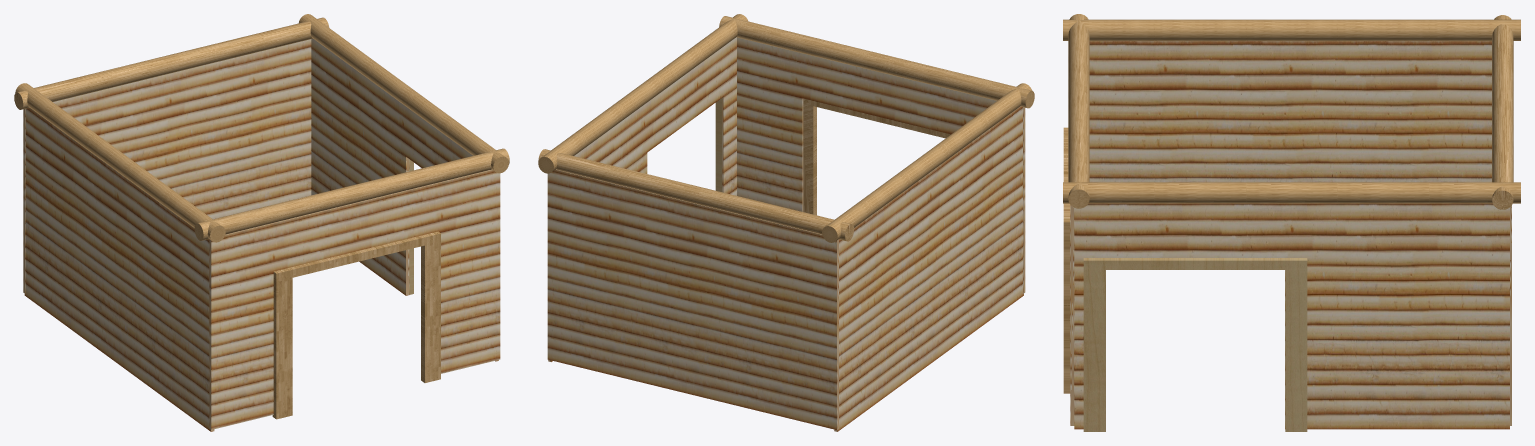
File: estructuraCasa.glb
The picture shows the model from 3 angles, left to right: view 1: azimuth 30°, elevation 25°; view 2: azimuth 150°, elevation 25°; view 3: azimuth 270°, elevation 25°; orthographic projection. The views are drawn at different scales.
Parts seen in each view (by area): view 1: Wall003, Box015, Box016, Wall001, kemer, Cylinder014, Cylinder013, Cylinder011, Cylinder012; view 2: Box016, Wall003, Box015, Wall001, Cylinder013, Cylinder014, Cylinder011, Cylinder012, kemer, kemer001; view 3: Wall001, Wall003, kemer001, Cylinder011, Cylinder012, Cylinder013, Cylinder014, kemer, Box015, Box016.
Boxes of the visible parts, left/top/right/bottom form: Wall003: left=24, top=108, right=214, bottom=431; Box015: left=209, top=169, right=500, bottom=429; Box016: left=23, top=39, right=311, bottom=293; Wall001: left=311, top=38, right=498, bottom=361; kemer: left=272, top=231, right=440, bottom=419; Cylinder014: left=14, top=17, right=329, bottom=109; Cylinder013: left=194, top=148, right=509, bottom=240; Cylinder011: left=15, top=83, right=225, bottom=242; Cylinder012: left=299, top=14, right=508, bottom=173; Box016: left=547, top=169, right=838, bottom=429; Wall003: left=834, top=106, right=1023, bottom=431; Box015: left=737, top=37, right=1025, bottom=293; Wall001: left=548, top=37, right=736, bottom=361; Cylinder013: left=719, top=16, right=1034, bottom=108; Cylinder014: left=538, top=149, right=853, bottom=241; Cylinder011: left=822, top=83, right=1031, bottom=242; Cylinder012: left=538, top=14, right=747, bottom=173; kemer: left=803, top=98, right=950, bottom=215; kemer001: left=715, top=98, right=721, bottom=191; Wall001: left=1074, top=203, right=1509, bottom=429; Wall003: left=1089, top=41, right=1491, bottom=182; kemer001: left=1083, top=258, right=1307, bottom=431; Cylinder011: left=1063, top=19, right=1520, bottom=40; Cylinder012: left=1063, top=182, right=1520, bottom=203; Cylinder013: left=1068, top=14, right=1089, bottom=208; Cylinder014: left=1492, top=15, right=1513, bottom=209; kemer: left=1063, top=127, right=1070, bottom=393; Box015: left=1070, top=205, right=1074, bottom=425; Box016: left=1510, top=205, right=1511, bottom=425.
Bounding box in the file's own units: 4.77 × 3.1 × 5.25.
4 materials, 4 textured.
